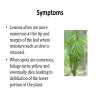Tomato leaf bacterial spot: (69, 40, 84, 73)
